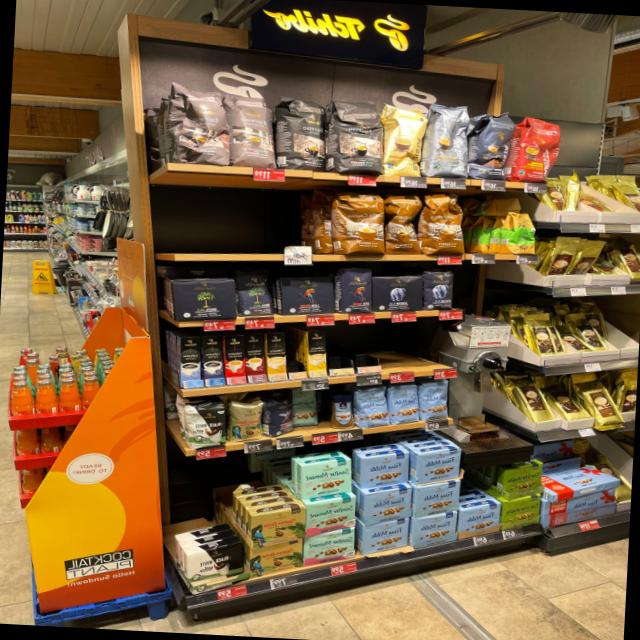AB Bohne: (423, 271, 456, 310)
AB Gemahlen: (370, 275, 423, 313)
BM Bohne: (235, 269, 276, 317)
BM Gemahlen: (170, 280, 238, 323)
BW Bohne: (186, 400, 229, 450)
BW Gemahlen: (187, 541, 243, 587)
Barista CB: (379, 105, 428, 177)
Barista CC: (423, 103, 473, 177)
Barista Espresso: (470, 112, 517, 181)
Barista Kolumbien: (507, 116, 565, 183)
C Fino Bohne: (263, 389, 296, 438)
CC Vollmundig 36 Pads: (337, 191, 388, 252), (421, 193, 467, 255), (385, 194, 423, 256)
Colombia BB Bohne: (229, 398, 266, 444)
Colombia BB Gemahlen: (250, 505, 306, 549), (250, 539, 304, 579)
Empty Shelf: (154, 180, 332, 252), (379, 323, 450, 367), (179, 467, 243, 513), (186, 505, 243, 556), (248, 466, 301, 510), (460, 469, 502, 508), (296, 392, 333, 435), (351, 328, 380, 366), (326, 330, 353, 369), (286, 332, 306, 373)
Espresso Aromatisch: (170, 85, 232, 165), (223, 92, 280, 168)
Espresso Kraftig: (326, 101, 386, 177), (275, 96, 330, 171)
FM Bohne: (356, 386, 391, 429), (388, 383, 421, 426), (419, 380, 450, 421)
FM Gemahlen: (365, 488, 412, 526), (361, 452, 409, 489), (414, 480, 459, 519), (412, 512, 459, 549), (363, 518, 411, 554), (417, 449, 462, 485)
FM Instant: (328, 393, 355, 428)
Herzhatfe Mundig: (506, 462, 544, 501), (501, 495, 541, 531), (459, 502, 502, 533)
LG Bohne: (338, 267, 372, 313)
LG Gemahlen: (280, 275, 336, 317)
SM Gemahlen: (306, 497, 358, 538), (301, 459, 351, 500), (304, 528, 355, 568)
Simo CCMild bigpack: (307, 331, 328, 378)
Simo Decaff: (265, 332, 288, 382)
Simo Es Brazil: (225, 335, 247, 386)
Simo Es Caramel: (246, 333, 268, 384)
Simo Es Kraft: (201, 336, 226, 388)
Simo Es Vanilla: (179, 338, 204, 388)
